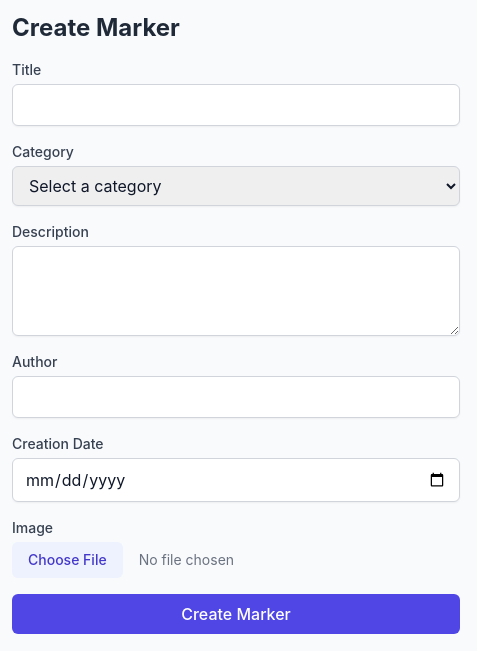
MarkerForm › disables the submit button while loading
Type "Test" into the field labelled "Title".
click(236, 105); type("Test")  # box [12,84,460,126]
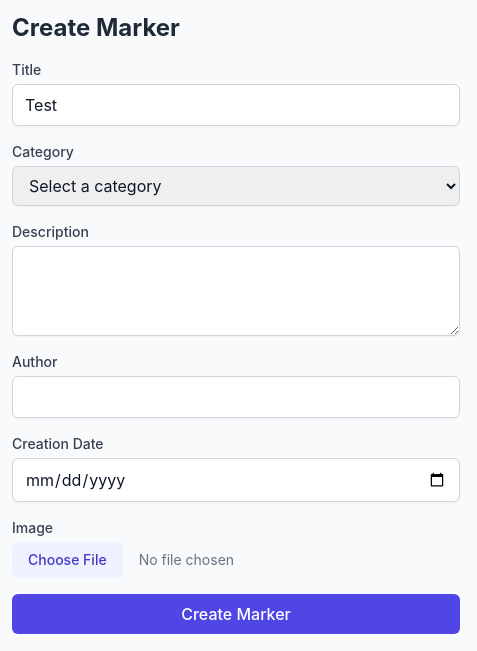
Select "Sculpture" in the dropdown labelled "Category" at (236, 186), box [12,166,460,206]
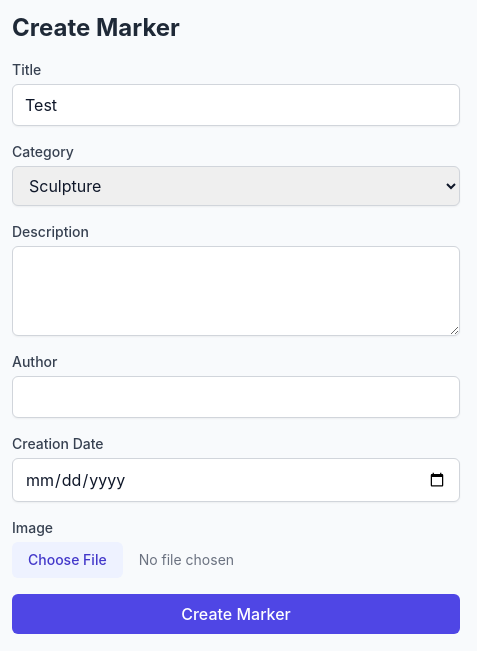
Click the button "Create Marker".
click(236, 614)  # box [12,594,460,634]
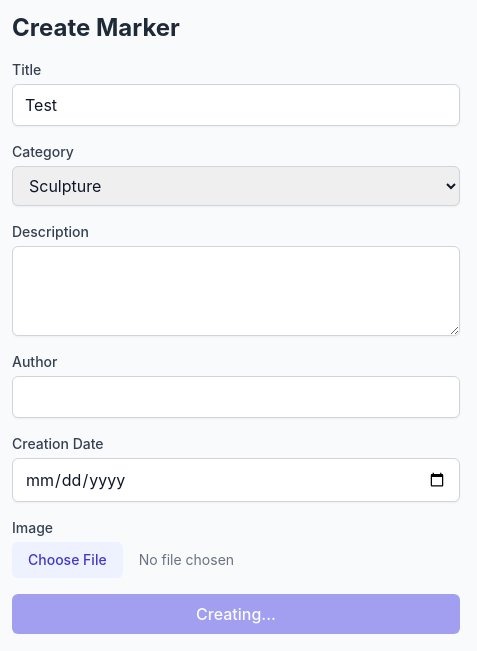
Result: the button "Creating..." is disabled at [12,594,460,634]
